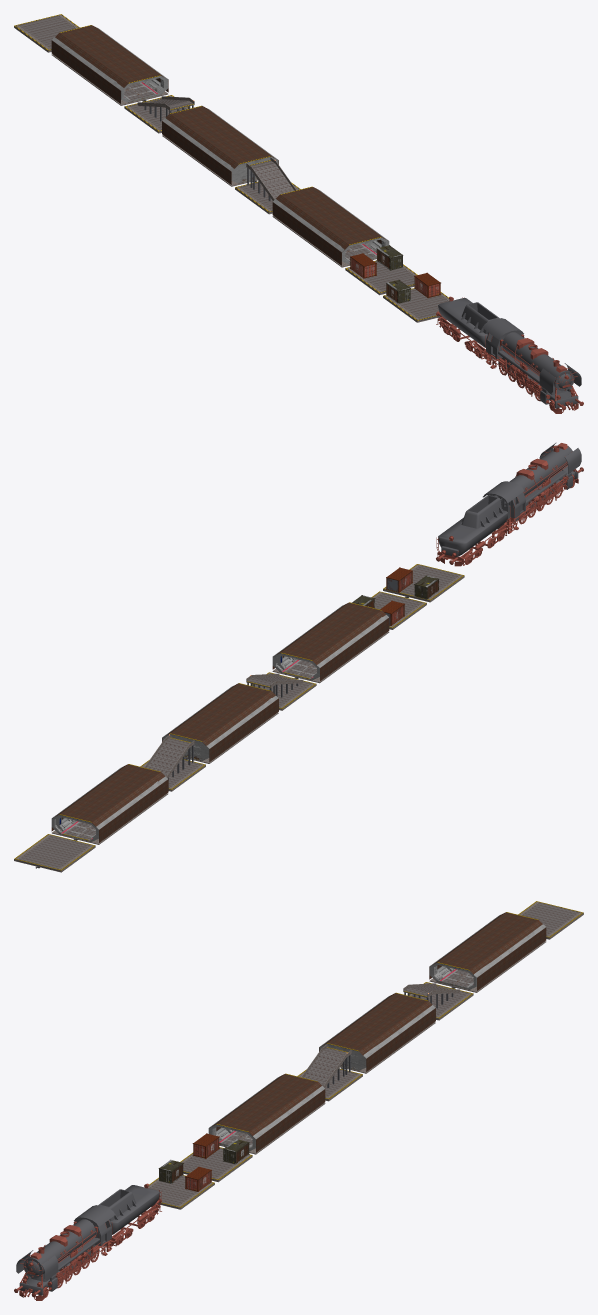
Rendered from TrainStage.fbx.
The picture shows the model from 3 angles, top to bottom: view 1: azimuth 30°, elevation 25°; view 2: azimuth 150°, elevation 25°; view 3: azimuth 330°, elevation 25°; orthographic projection.
Visible parts, largest first — view 1: TrainStage; view 2: TrainStage; view 3: TrainStage.
Boxes of the visible parts, x1,y1,x2,y2 form: TrainStage: [14, 14, 583, 413]; TrainStage: [14, 442, 583, 872]; TrainStage: [14, 901, 583, 1300].
Bounding box in the file's own units: 16.02 × 13.84 × 314.
Materials: 24 (15 with a texture image).
